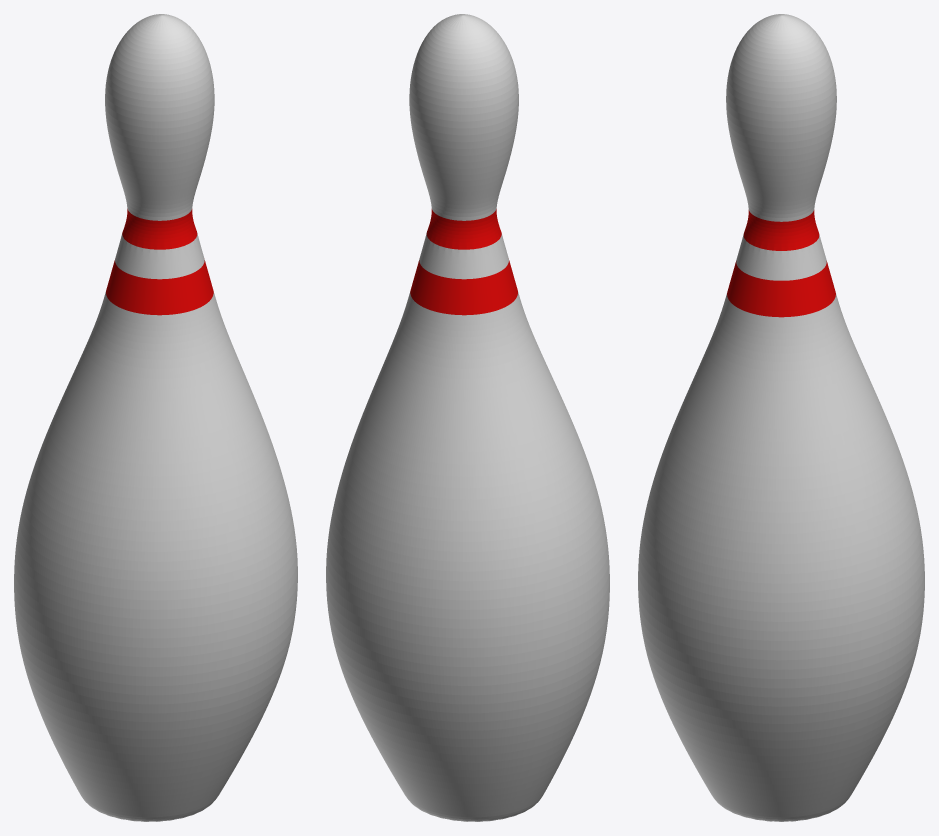
File: bowling pin normals.fbx
The picture shows the model from 3 angles, left to right: view 1: azimuth 30°, elevation 25°; view 2: azimuth 150°, elevation 25°; view 3: azimuth 270°, elevation 25°; orthographic projection.
Visible parts, largest first — view 1: Circle; view 2: Circle; view 3: Circle.
Boxes of the visible parts, box(x1,y1,x2,y2) form: Circle: box(14, 14, 297, 821); Circle: box(326, 14, 609, 821); Circle: box(638, 14, 924, 821).
Size of the model in its own units: 113 by 343 by 113.
